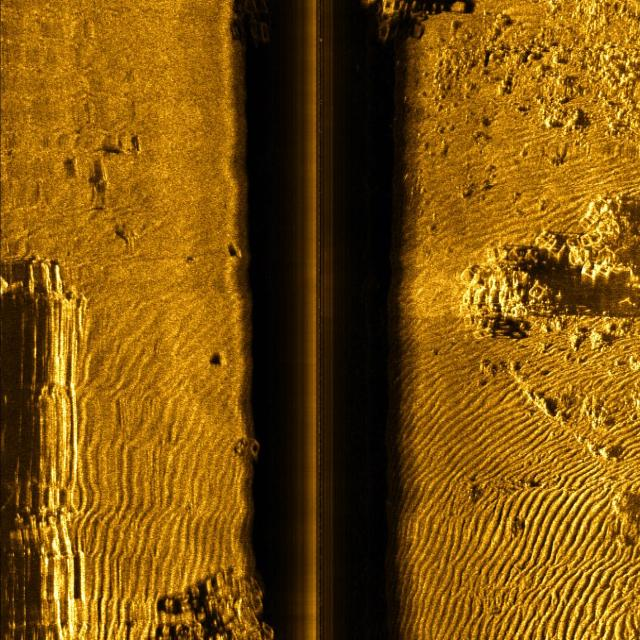artificial reef: (448, 219, 640, 307), (361, 0, 456, 64), (188, 566, 270, 640), (223, 0, 279, 64), (232, 423, 278, 473)
